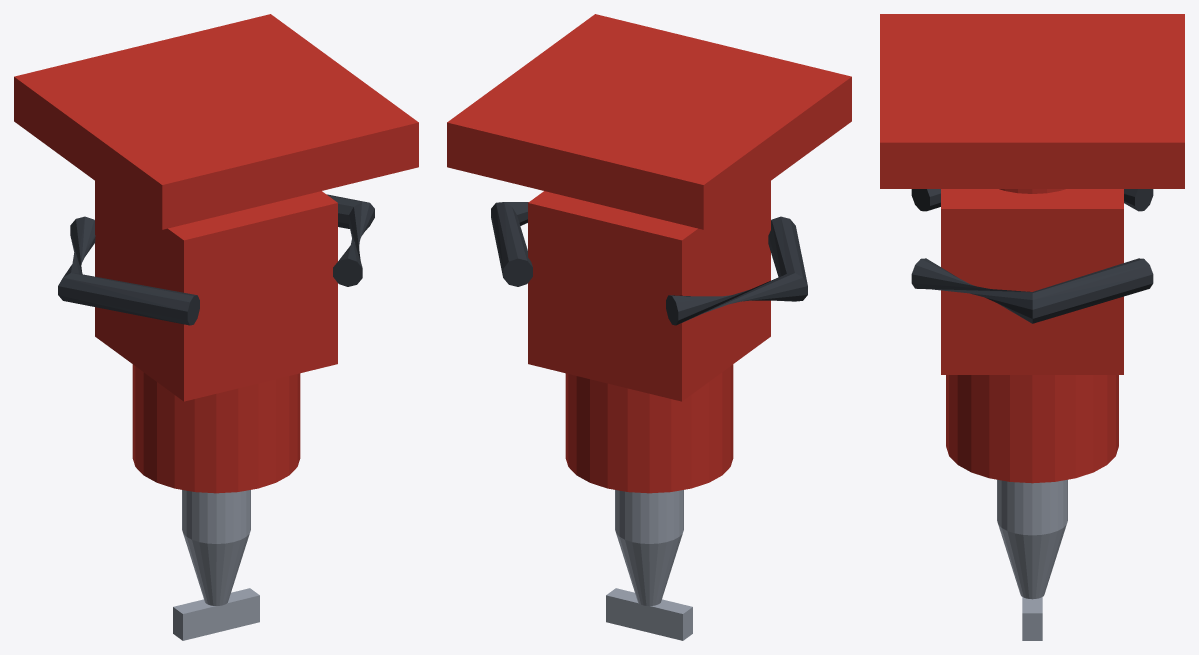
Rendered from jack_hammer.dae.
The picture shows the model from 3 angles, left to right: view 1: azimuth 30°, elevation 25°; view 2: azimuth 150°, elevation 25°; view 3: azimuth 270°, elevation 25°; orthographic projection. The views are drawn at different scales.
Parts seen in each view (by area): view 1: jack_hammer; view 2: jack_hammer; view 3: jack_hammer.
Part boxes in pixels (left/top/right/bottom): jack_hammer: left=14, top=14, right=418, bottom=640; jack_hammer: left=447, top=14, right=851, bottom=640; jack_hammer: left=880, top=14, right=1184, bottom=640.
Bounding box in the file's own units: 0.3704 × 0.3 × 0.59.
